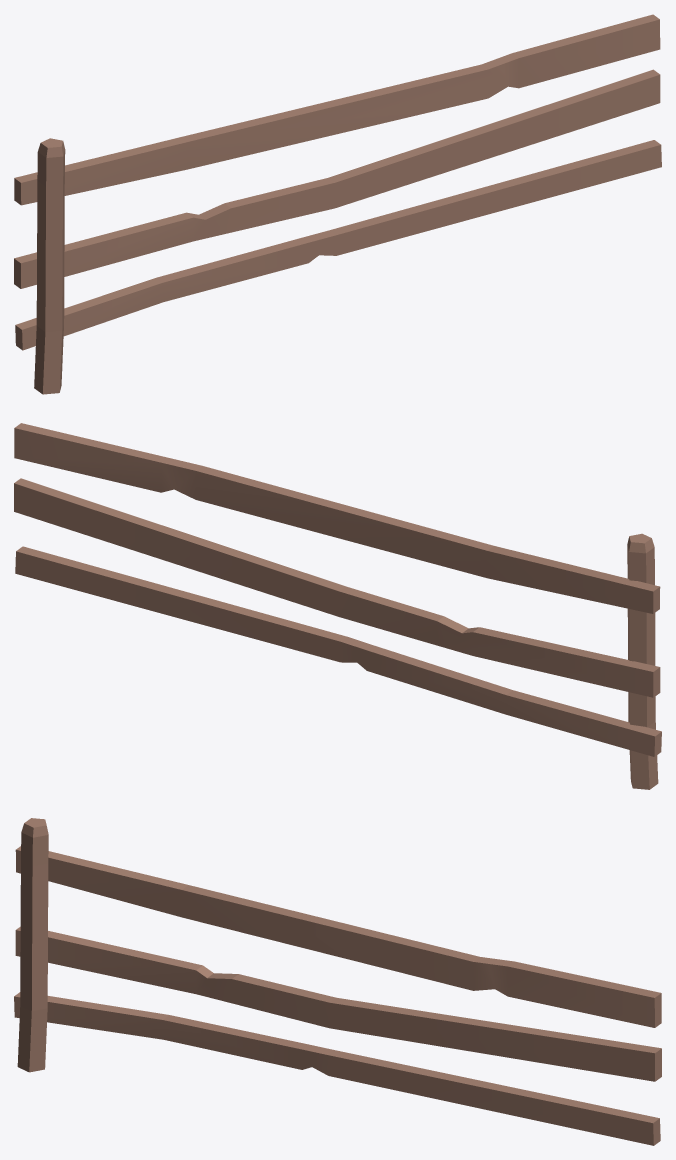
The model's file is Fence_02.fbx.
3 renders of one model, top to bottom at view 1: azimuth 30°, elevation 25°; view 2: azimuth 150°, elevation 25°; view 3: azimuth 330°, elevation 25°, orthographic.
Visible parts, largest first — view 1: SM_Bld_Fence_02; view 2: SM_Bld_Fence_02; view 3: SM_Bld_Fence_02.
Boxes of the visible parts, x1,y1,x2,y2 form: SM_Bld_Fence_02: (14, 14, 661, 394); SM_Bld_Fence_02: (14, 423, 661, 789); SM_Bld_Fence_02: (14, 818, 661, 1145).
Size of the model in its own units: 325 by 119 by 20.69.
